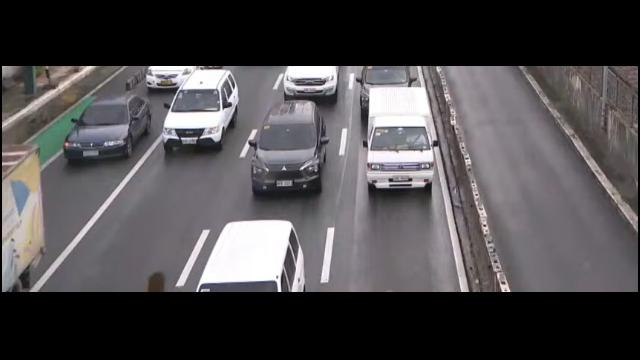bus: (0, 143, 43, 292)
car: (196, 218, 313, 293), (250, 101, 328, 195), (59, 91, 152, 166), (161, 69, 240, 155), (355, 65, 418, 106), (280, 65, 340, 98), (142, 65, 201, 89)
van: (364, 85, 443, 191)
